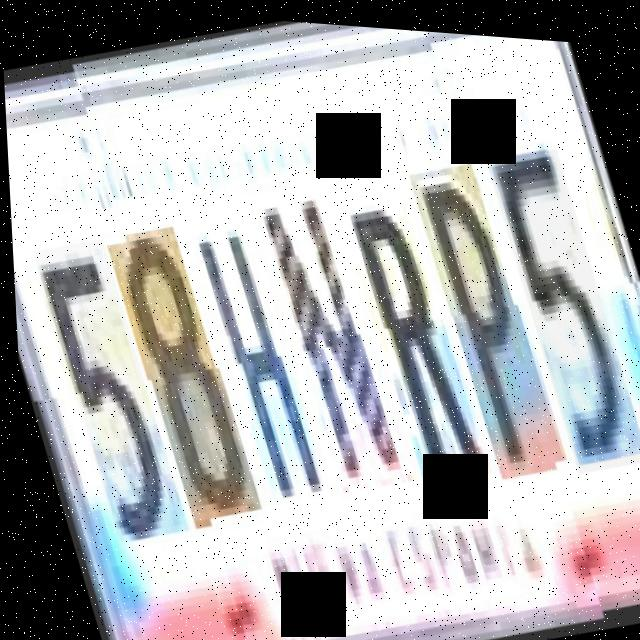5: (484, 135, 640, 469), (29, 233, 182, 538)
8: (104, 218, 257, 523)
H: (185, 205, 328, 513)
N: (252, 180, 410, 494)
P: (409, 151, 564, 475)
R: (336, 173, 487, 484)
